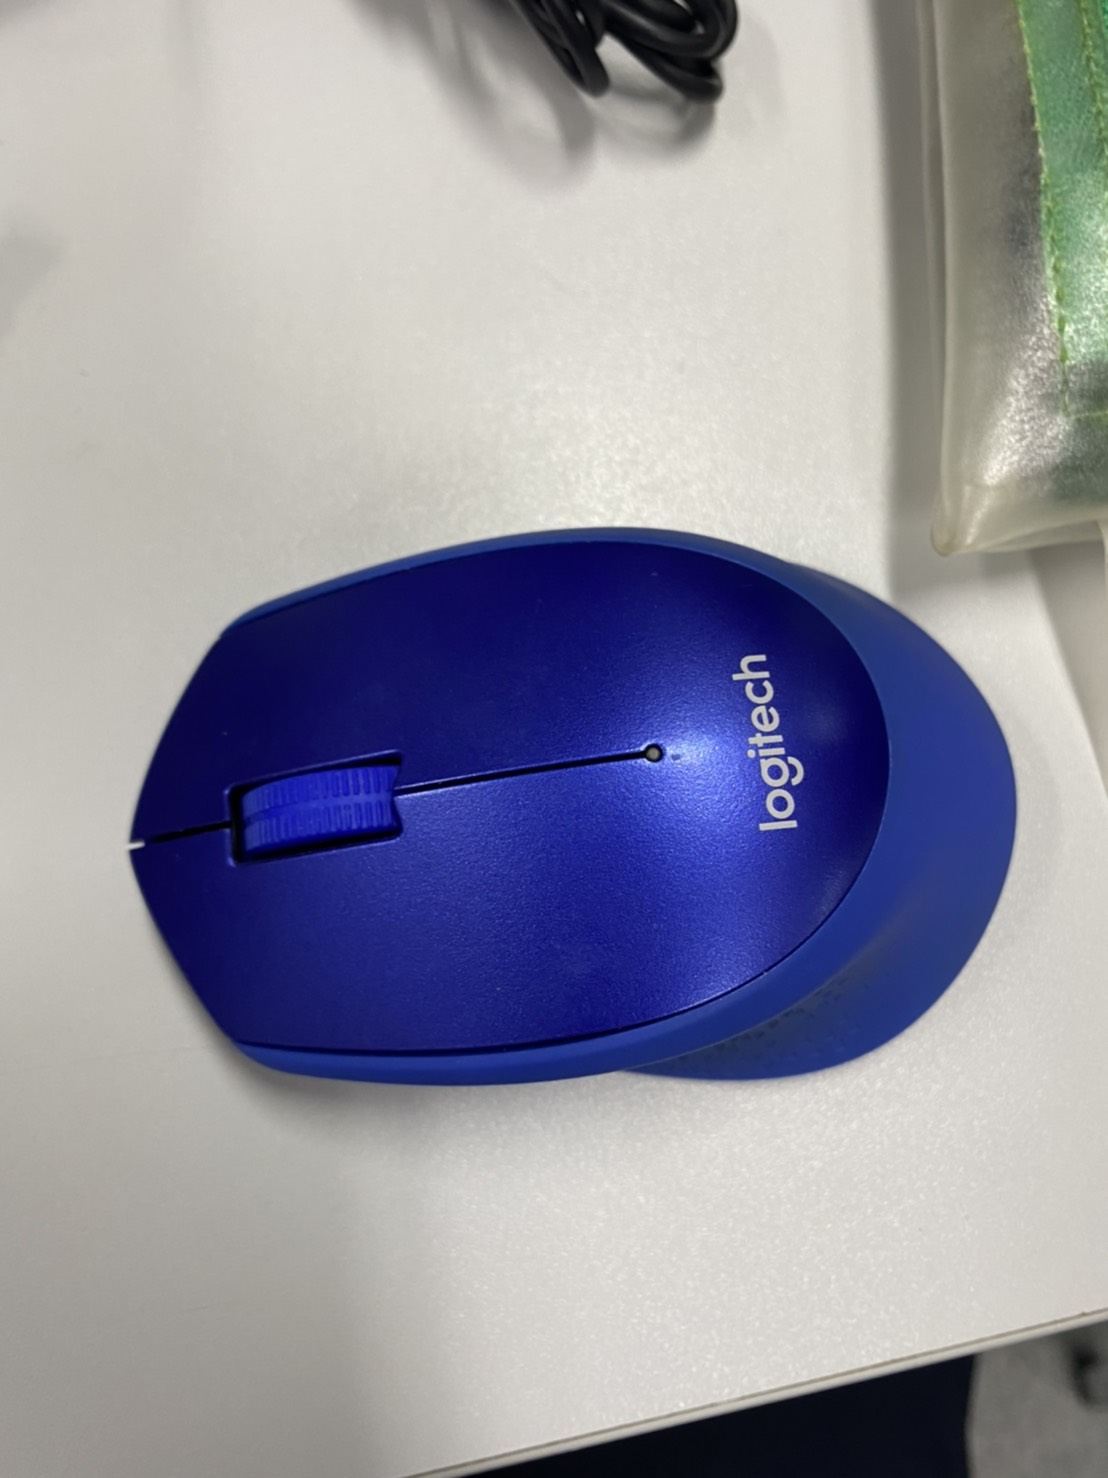mouse: (129, 535, 1016, 1088)
